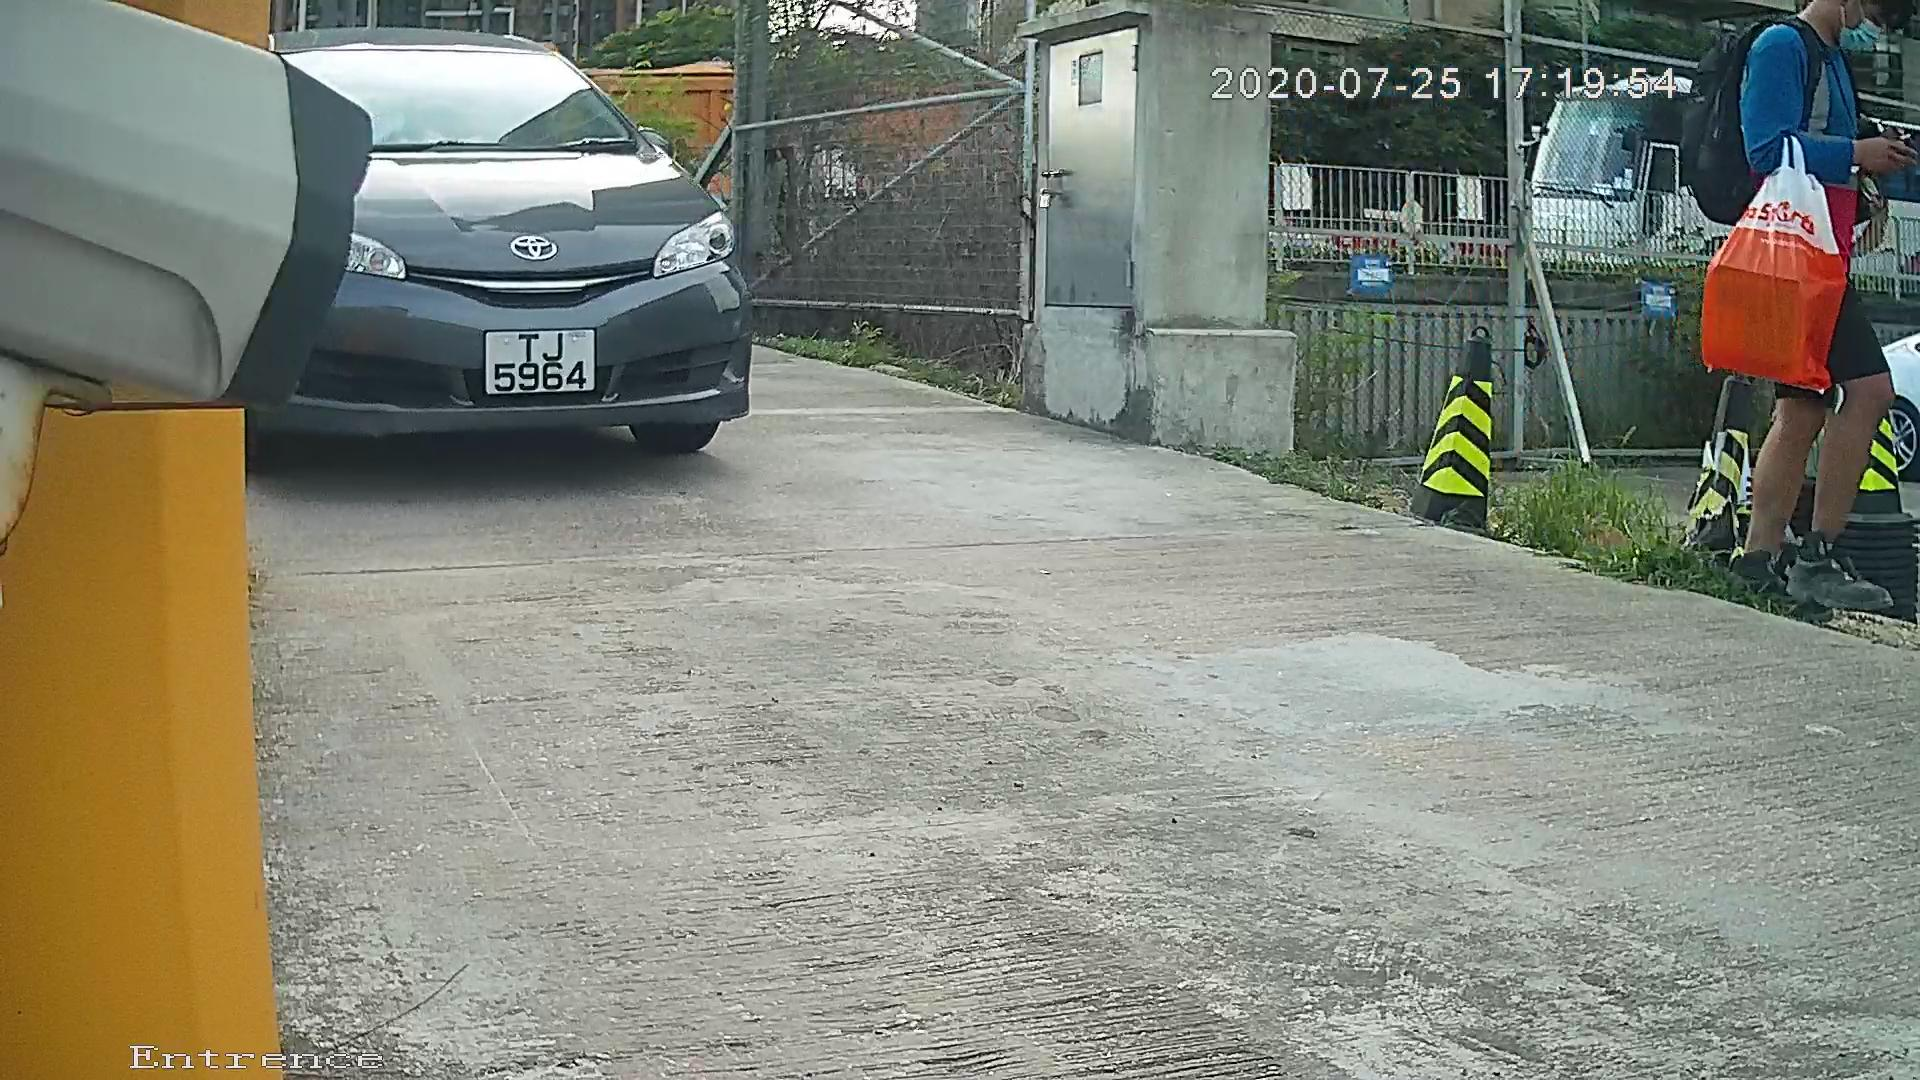Car: (146, 44, 875, 473)
License Plate: (472, 299, 609, 415)
